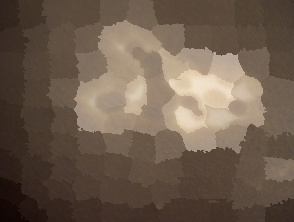vitiligo: (51, 5, 288, 200)
